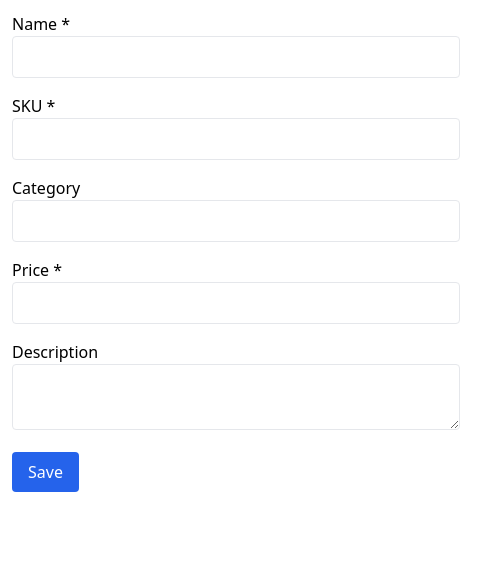
ProductForm › shows validation errors for required fields
Click the button "Save". click: (45, 472)
box: [12,452,79,492]
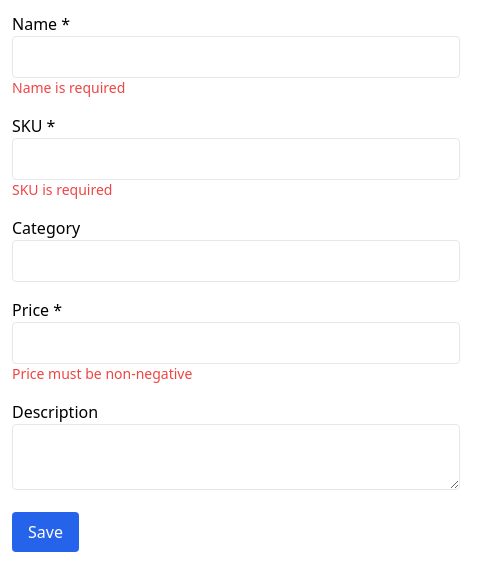
Check: the text "Name is required" is shown, box [12,78,125,97]
Check: the text "SKU is required" is shown, box [12,180,112,199]
Check: the text "Price must be non-negative" is shown, box [12,364,192,383]
